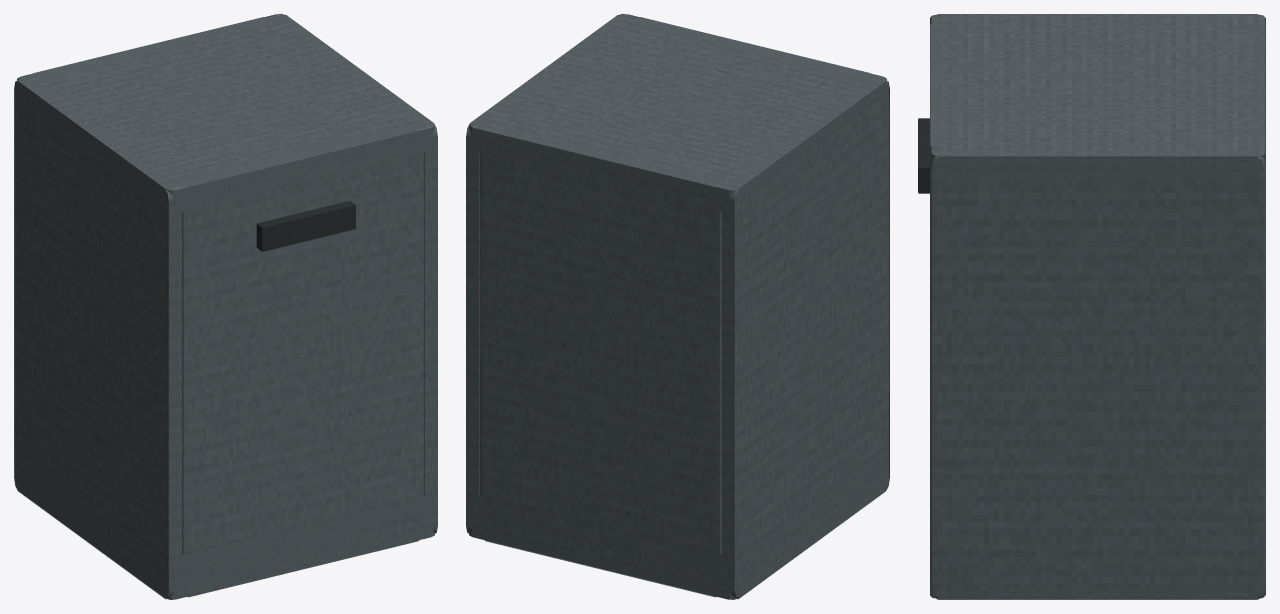
The model's file is scrap-bin.glb.
3 views of the same model, side by side, from view 1: azimuth 30°, elevation 25°; view 2: azimuth 150°, elevation 25°; view 3: azimuth 270°, elevation 25° (orthographic). The views are drawn at different scales.
Visible parts, largest first — view 1: edge (×2), side (×2), lid, bottom, grip; view 2: edge (×2), side (×2), lid, bottom; view 3: side (×2), lid, bottom, edge (×2), grip.
Part boxes in pixels (left/top/right/bottom): edge (×2): left=33, top=17, right=424, bottom=597; side (×2): left=14, top=15, right=437, bottom=599; lid: left=17, top=14, right=434, bottom=212; bottom: left=17, top=448, right=434, bottom=599; grip: left=256, top=201, right=355, bottom=251; edge (×2): left=479, top=17, right=870, bottom=597; side (×2): left=466, top=15, right=889, bottom=599; lid: left=469, top=14, right=886, bottom=212; bottom: left=469, top=448, right=886, bottom=599; side (×2): left=930, top=14, right=1265, bottom=599; lid: left=930, top=14, right=1265, bottom=181; bottom: left=930, top=554, right=1265, bottom=598; edge (×2): left=930, top=24, right=1265, bottom=146; grip: left=918, top=118, right=929, bottom=193.
Size of the model in its own units: 0.37 by 0.54 by 0.383.
2 materials, 2 textured.
